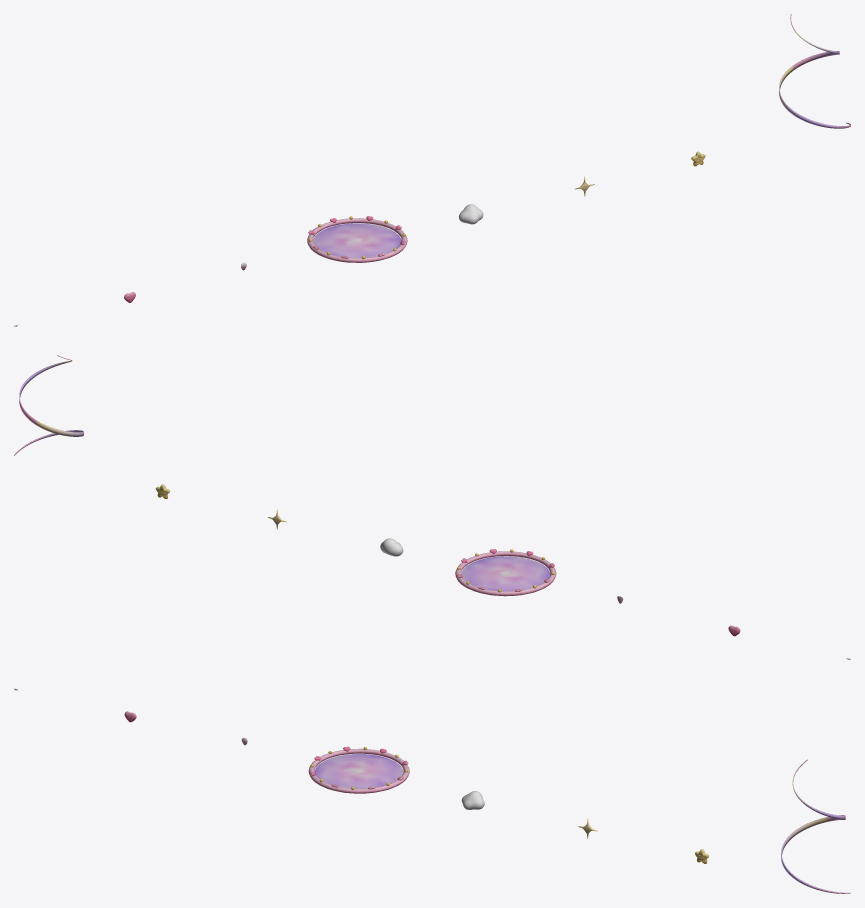
File: prp_warp.glb
3 renders of one model, top to bottom at view 1: azimuth 30°, elevation 25°; view 2: azimuth 150°, elevation 25°; view 3: azimuth 330°, elevation 25°, orthographic.
Visible parts, largest first — view 1: INST_prp_warp_portal, INST_prp_warp_swirl; view 2: INST_prp_warp_portal, INST_prp_warp_swirl; view 3: INST_prp_warp_portal, INST_prp_warp_swirl.
Boxes of the visible parts, x1,y1,x2,y2 form: INST_prp_warp_portal: (307,216,407,262); INST_prp_warp_swirl: (779,14,850,128); INST_prp_warp_portal: (455,549,556,596); INST_prp_warp_swirl: (14,355,83,455); INST_prp_warp_portal: (308,746,409,793); INST_prp_warp_swirl: (781,759,850,893).
Size of the model in its own units: 14.64 by 2.13 by 1.53.
